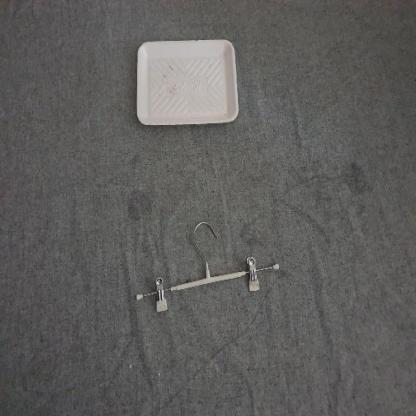Glass Cup: (135, 39, 238, 128), (137, 39, 239, 125)
